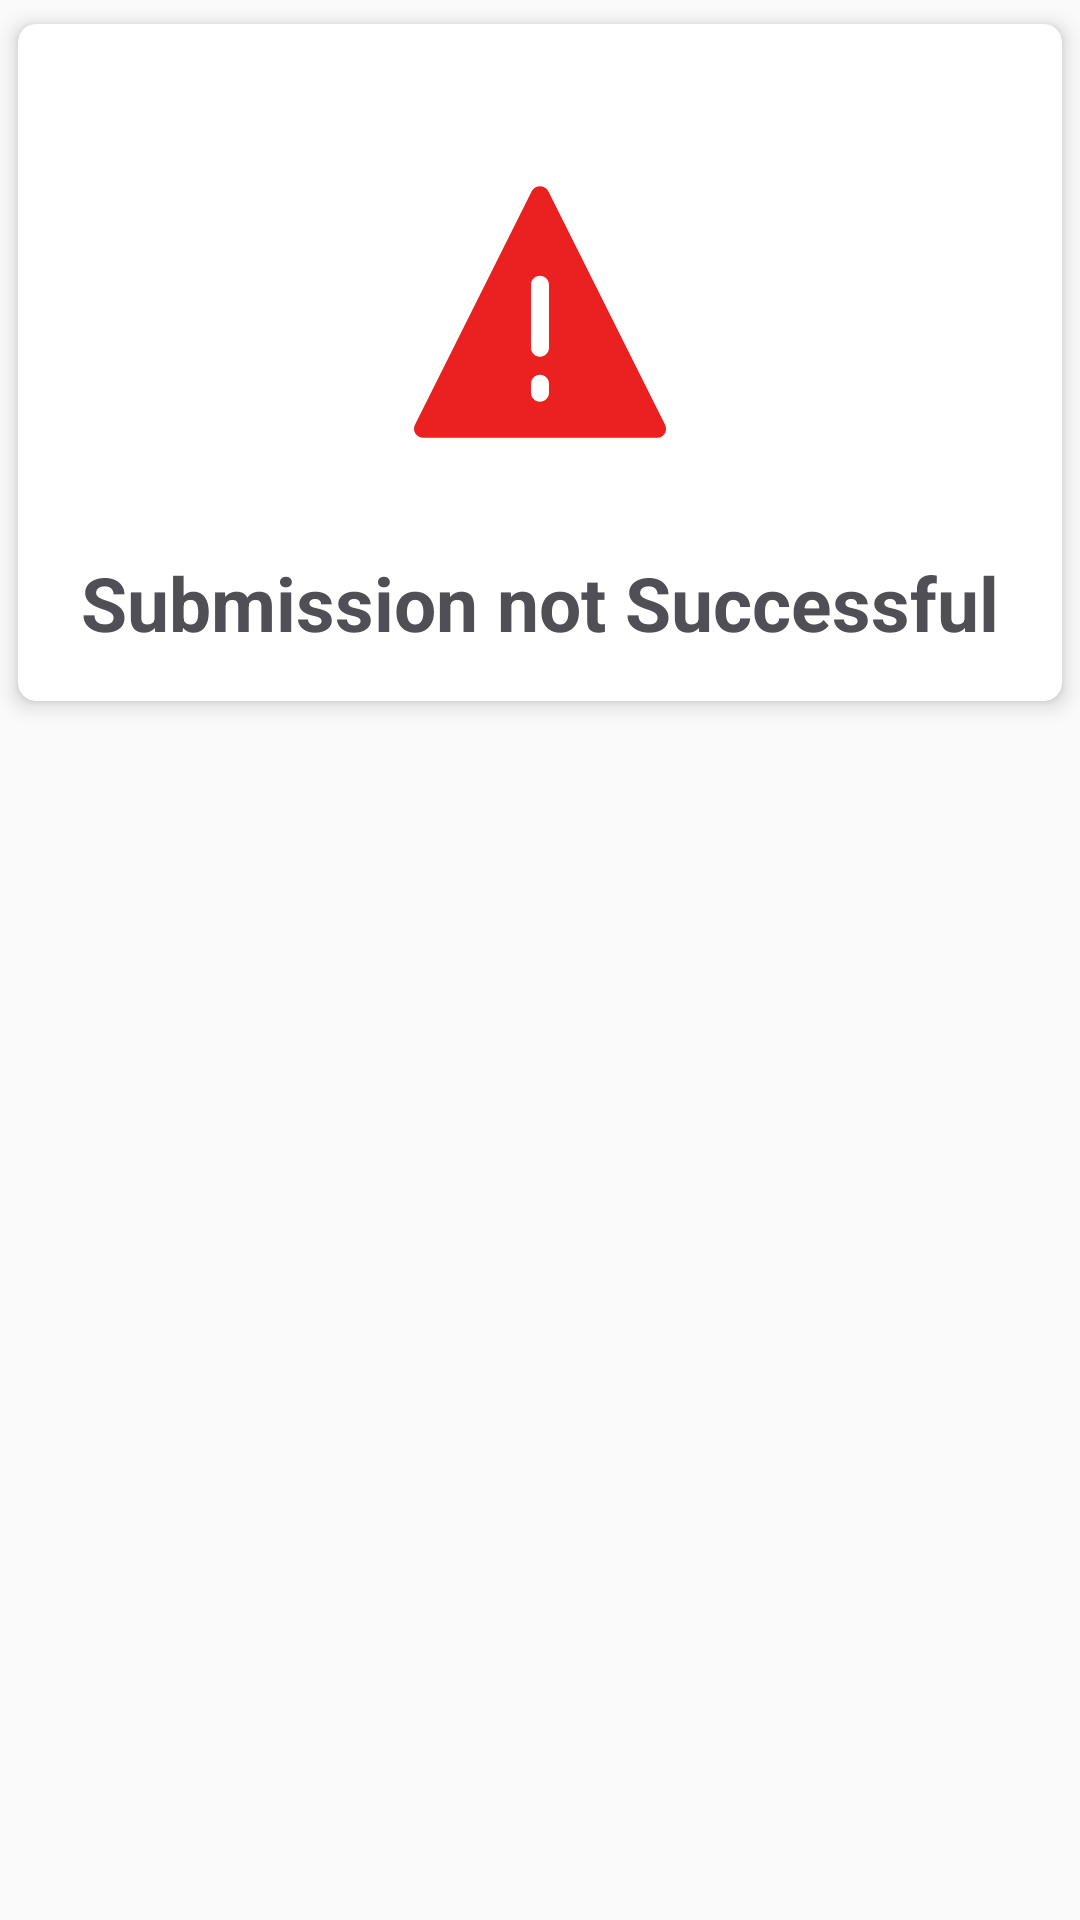

Icons on this 1080 x 1920 Android screen, each with its box as (x1, y1, x2, y2):
risk: (414, 186, 666, 438)
